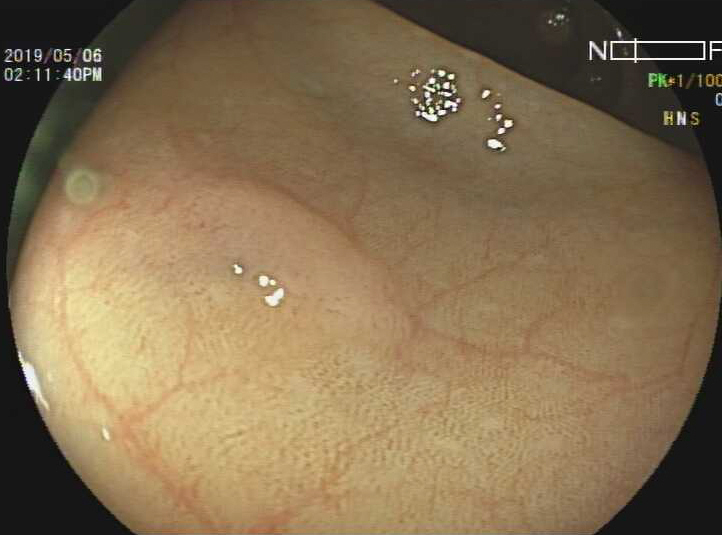others: (191, 172, 386, 326)
